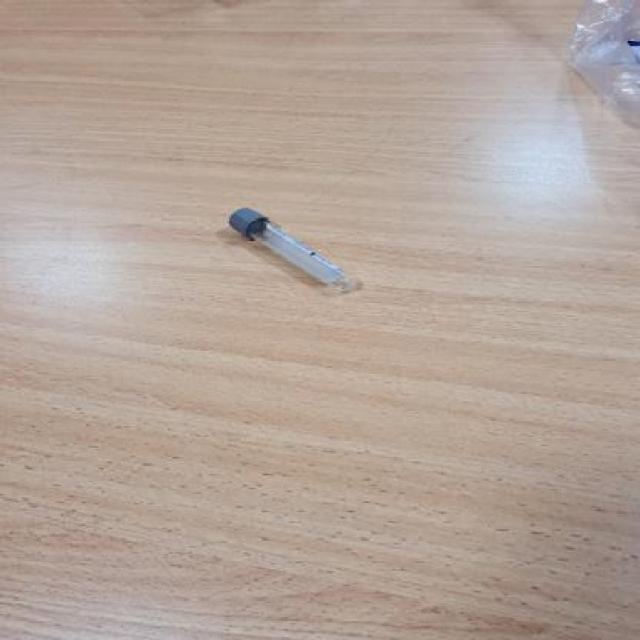Experimental-tube: (230, 208, 361, 297)
